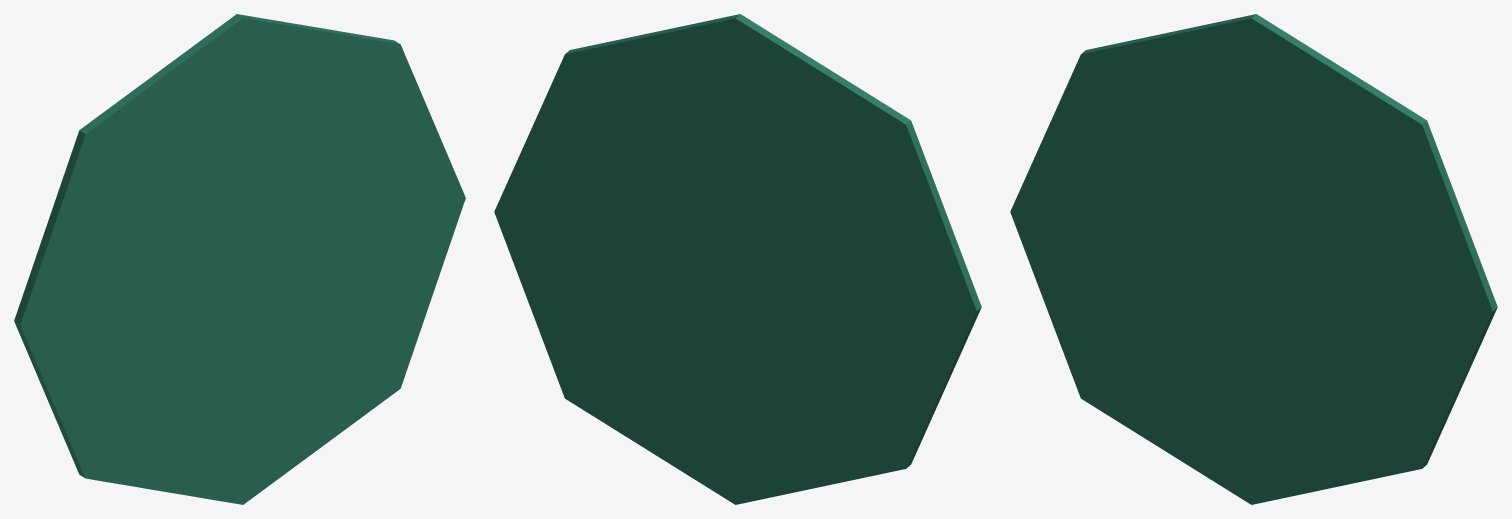
Rendered from Envy_horsePlaceholder.fbx.
The picture shows the model from 3 angles, left to right: view 1: azimuth 30°, elevation 25°; view 2: azimuth 150°, elevation 25°; view 3: azimuth 330°, elevation 25°; orthographic projection.
Visible parts, largest first — view 1: pCylinder15; view 2: pCylinder15; view 3: pCylinder15.
Part boxes in pixels (left/top/right/bottom): pCylinder15: left=14, top=14, right=465, bottom=504; pCylinder15: left=494, top=14, right=981, bottom=504; pCylinder15: left=1010, top=14, right=1497, bottom=504.
Bounding box in the file's own units: 0.6142 × 0.6148 × 0.0559.
